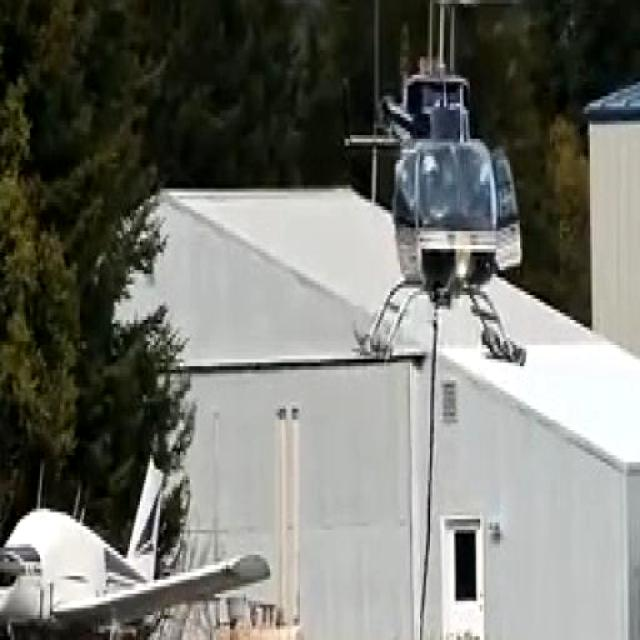0: (0, 416, 275, 640)
drone: (359, 0, 551, 388)
